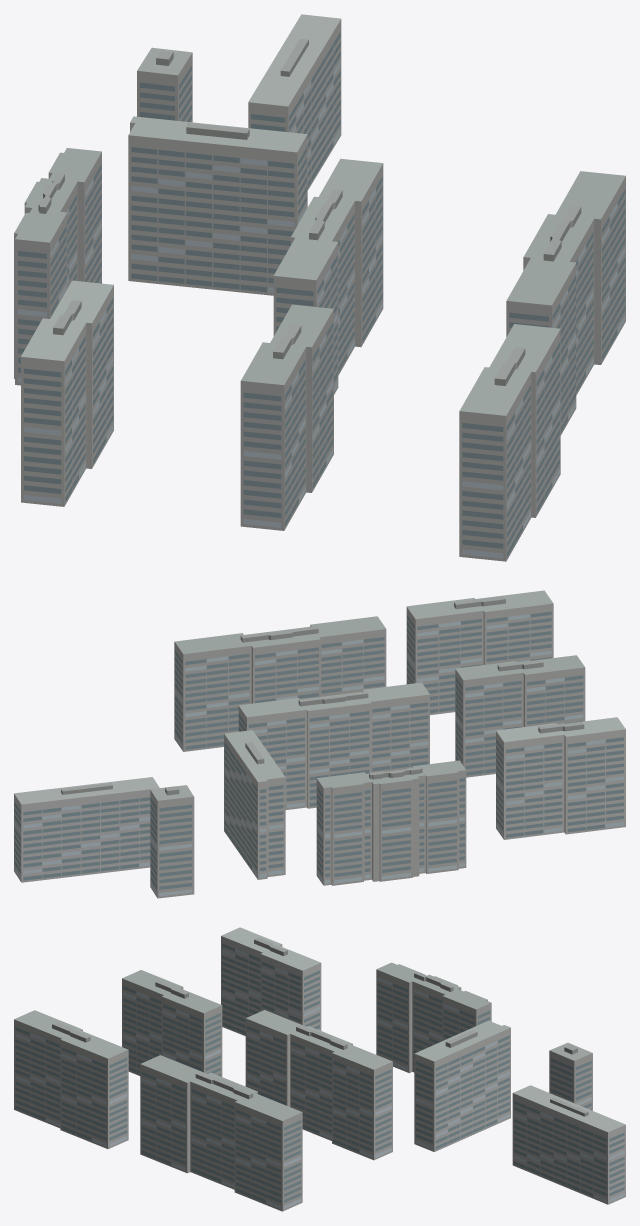
Rendered from apt-a13816202.glb.
3 views of the same model, one above another, from view 1: azimuth 30°, elevation 25°; view 2: azimuth 150°, elevation 25°; view 3: azimuth 270°, elevation 25° (orthographic). The views are drawn at different scales.
Visible parts, largest first — view 1: apt-a13816202; view 2: apt-a13816202; view 3: apt-a13816202.
Boxes of the visible parts, <box> form: apt-a13816202: <box>14,14,625,561</box>; apt-a13816202: <box>14,590,625,898</box>; apt-a13816202: <box>14,927,625,1211</box>.
Bounding box in the file's own units: 210 × 47.81 × 280.
